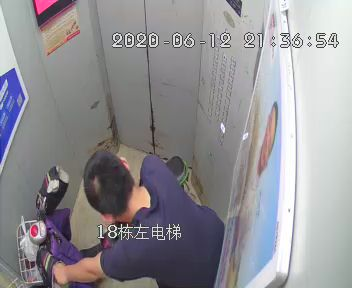Electric-bicycle: (19, 155, 188, 288)
